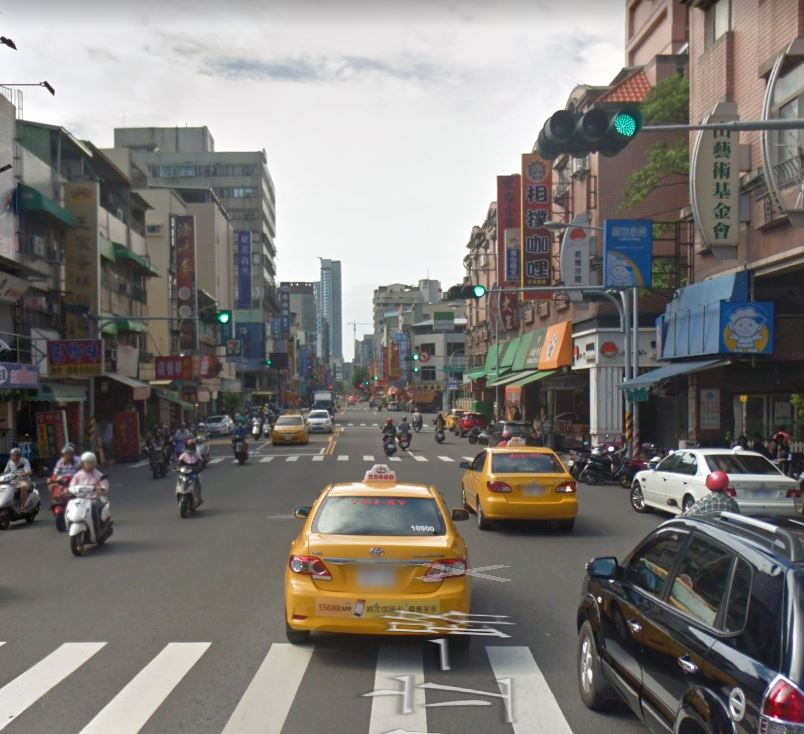Traffic_light_green: (534, 104, 645, 163), (194, 310, 234, 328), (445, 285, 487, 302)
car: (276, 467, 485, 652), (461, 436, 589, 541)
motorcycle: (65, 481, 114, 554), (171, 460, 208, 518)
